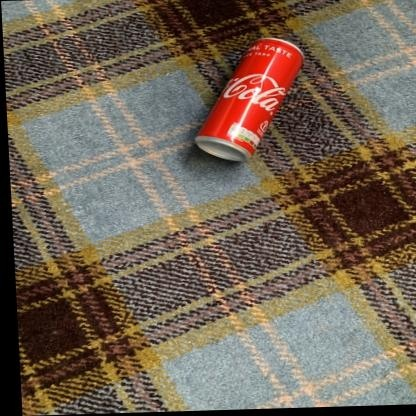trash: (195, 38, 303, 160)
